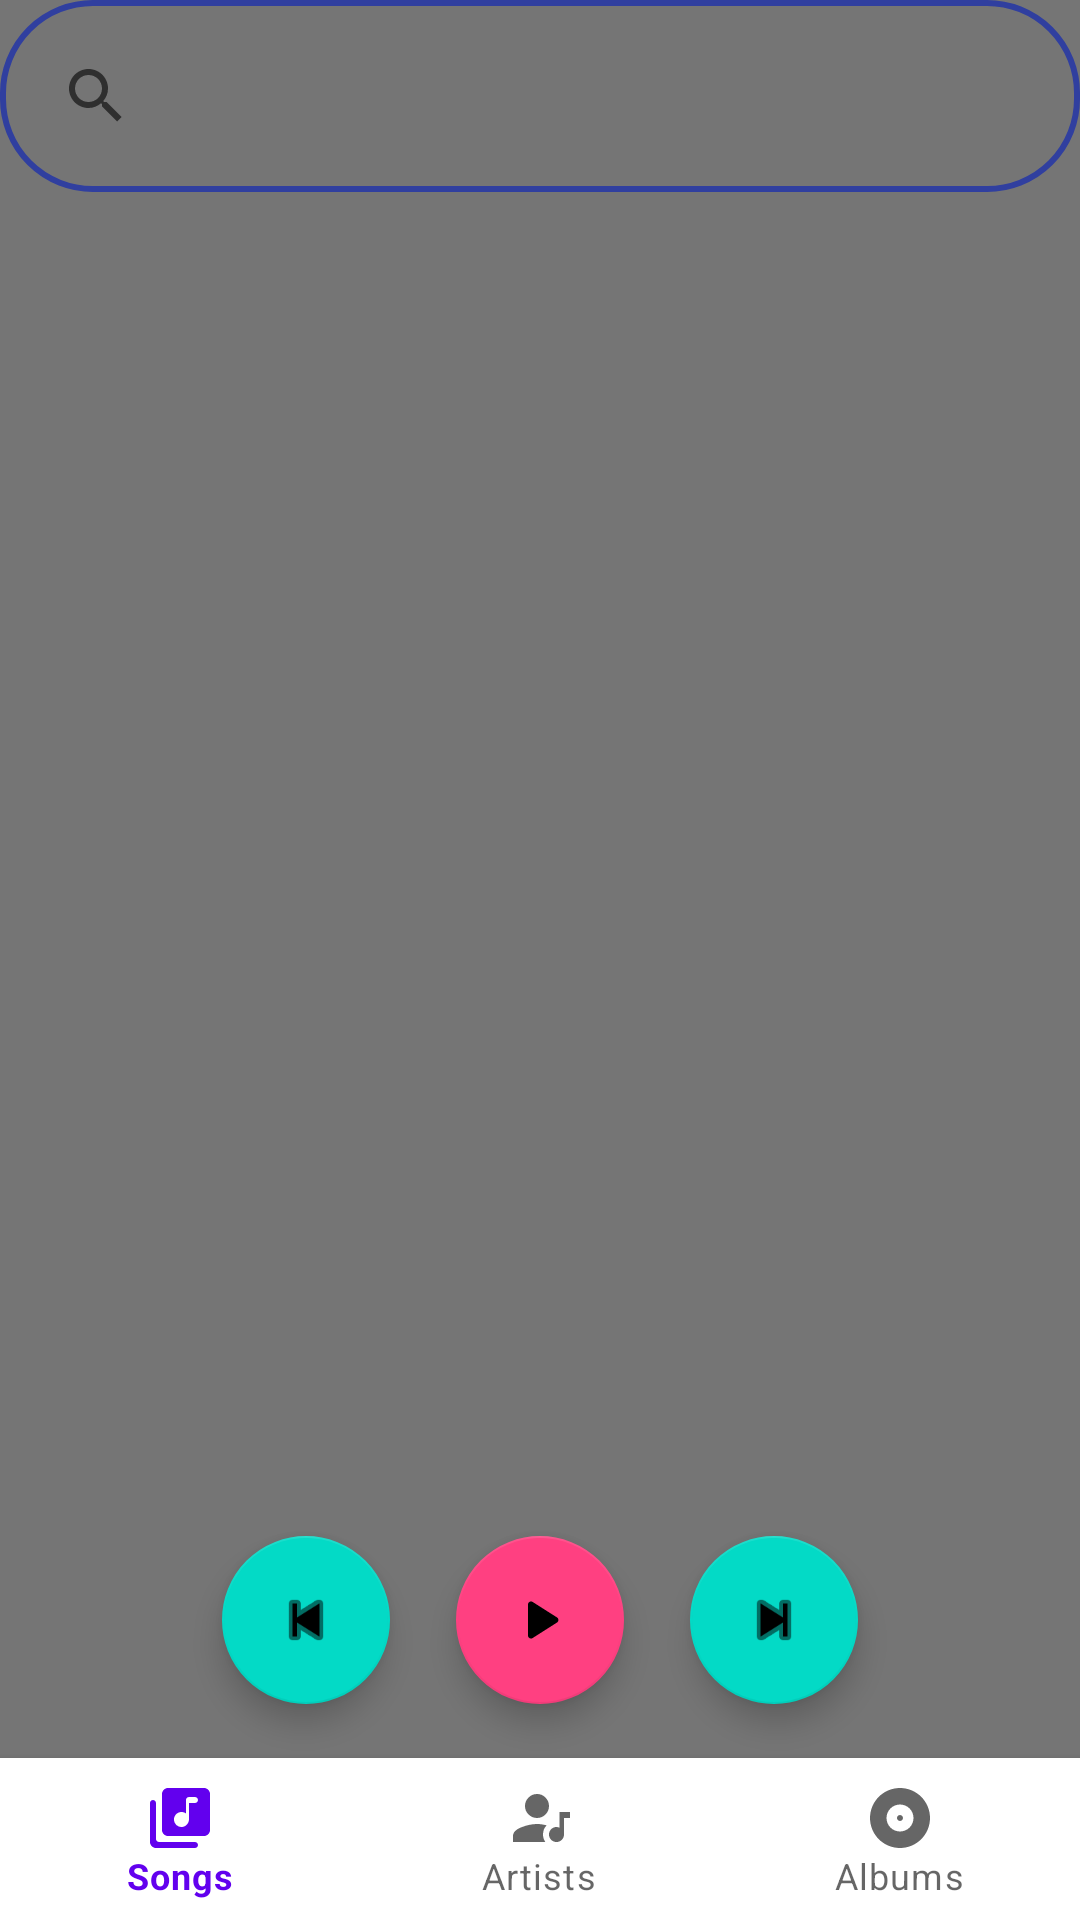

Where to tap for icons on this 1080*1920 app screen, as point (x, y):
next: point (774, 1620)
play arrow: point (540, 1620)
previous: point (306, 1620)
